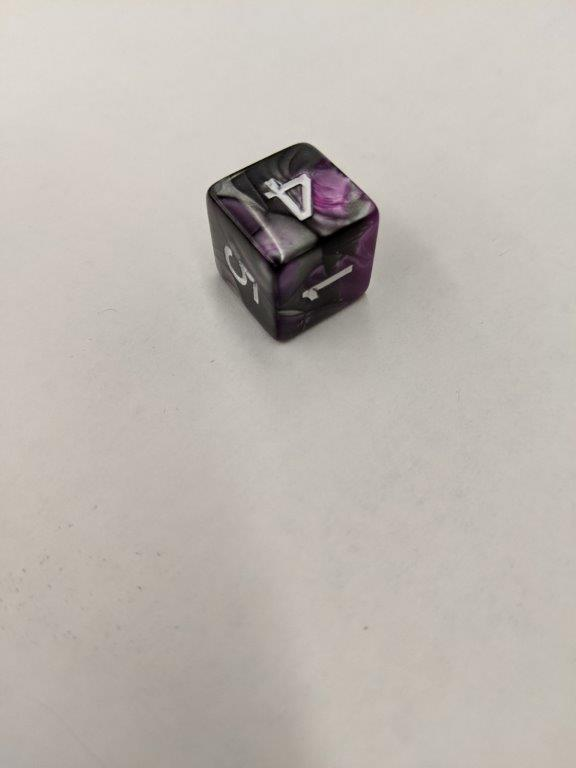d6-4: (206, 140, 380, 340)
